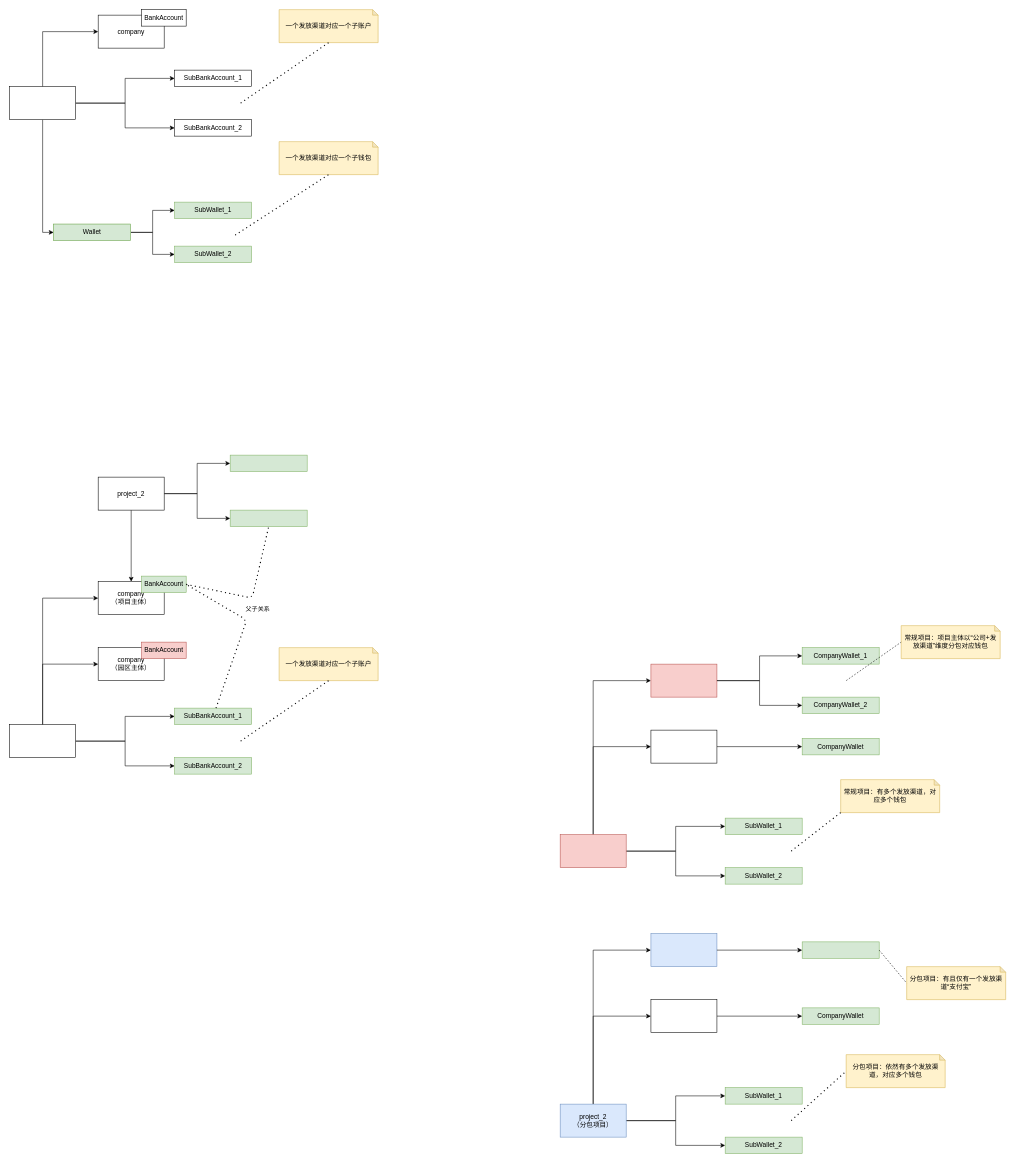
This 1015x1163 diagram has some shape labels left out. The shapes that lost their labels are listed below. From the top down, each one's centre as x and y in pixels, then its label:
At point (42, 103): "project".
At point (268, 463): "SubBankAccount_3".
At point (268, 518): "SubBankAccount_4".
At point (683, 680): "company_1 （项目主体）".
At point (42, 741): "project_1".
At point (683, 746): "company_1 （园区主体）".
At point (593, 851): "project_1 （常规项目）".
At point (683, 950): "company_2 （项目主体）".
At point (840, 949): "CompanyWallet_3".
At point (683, 1016): "company_2 （园区主体）".
